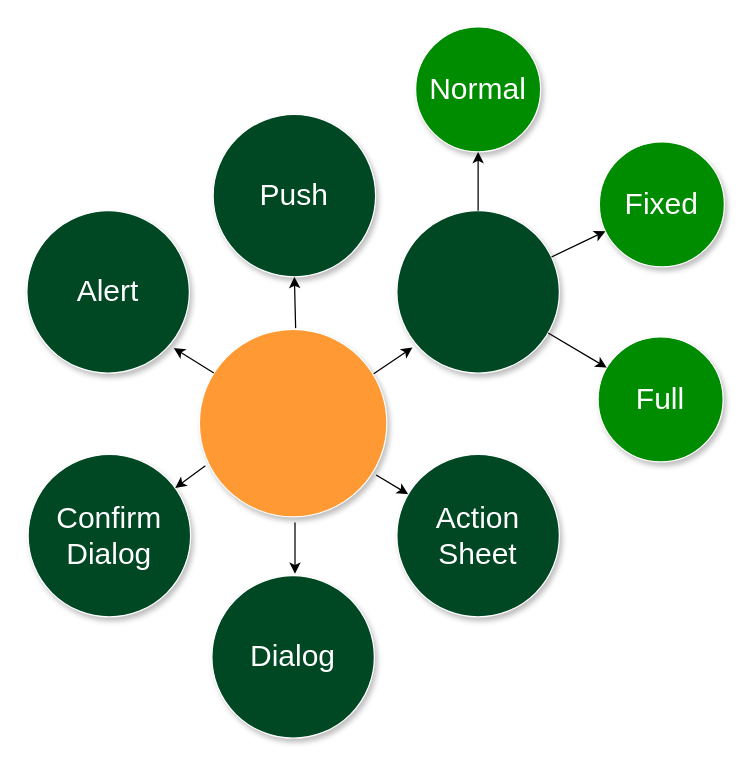
The diagram is 754 pixels wide and 769 high, and some of its shapes have lost their labels. The shapes that lost their labels are listed below. From the top down, each one's centre as x and y in pixels, then its label:
At pixel 479 293: "Sheet".
At pixel 293 424: "Navigator".
